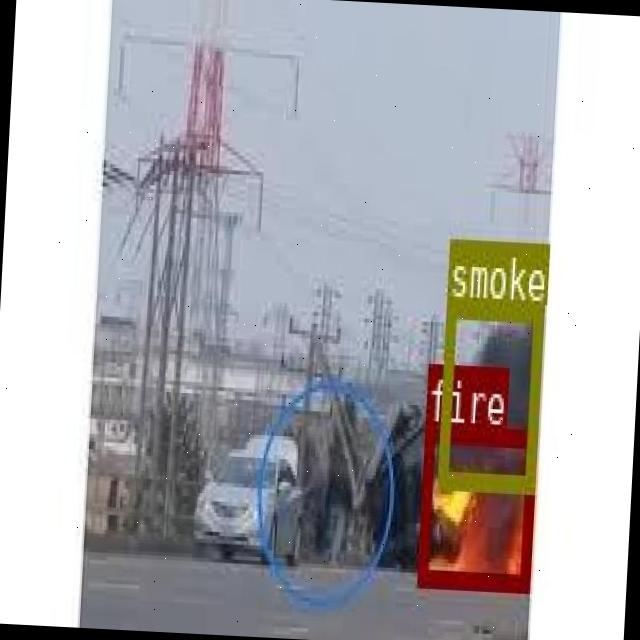fire: (416, 422, 536, 590)
smoke: (436, 296, 544, 488)
